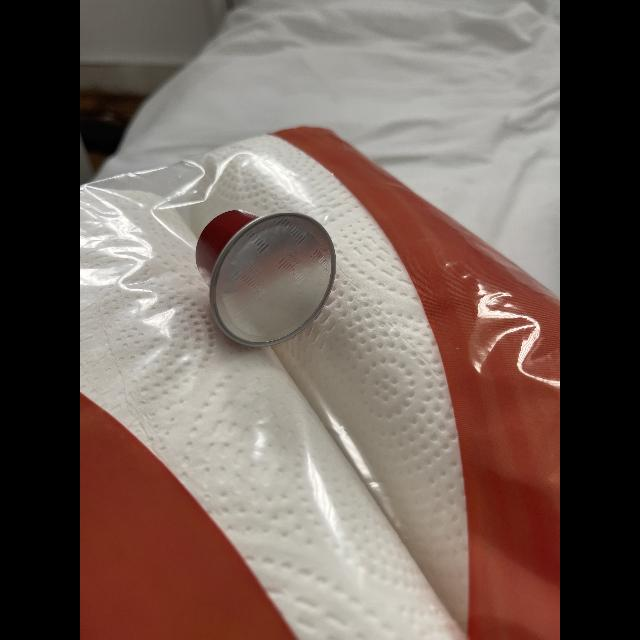intact_capsule: (188, 198, 360, 360)
